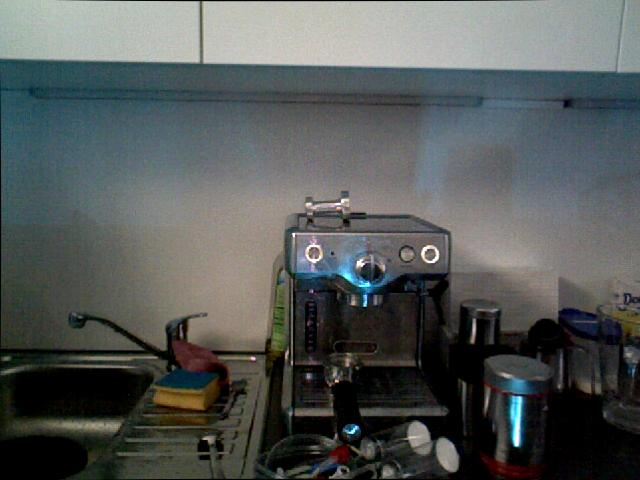bench: (262, 241, 293, 362)
couch: (0, 355, 159, 480)
handbag: (588, 297, 640, 434)
toilet: (194, 422, 234, 480), (224, 373, 248, 420)
